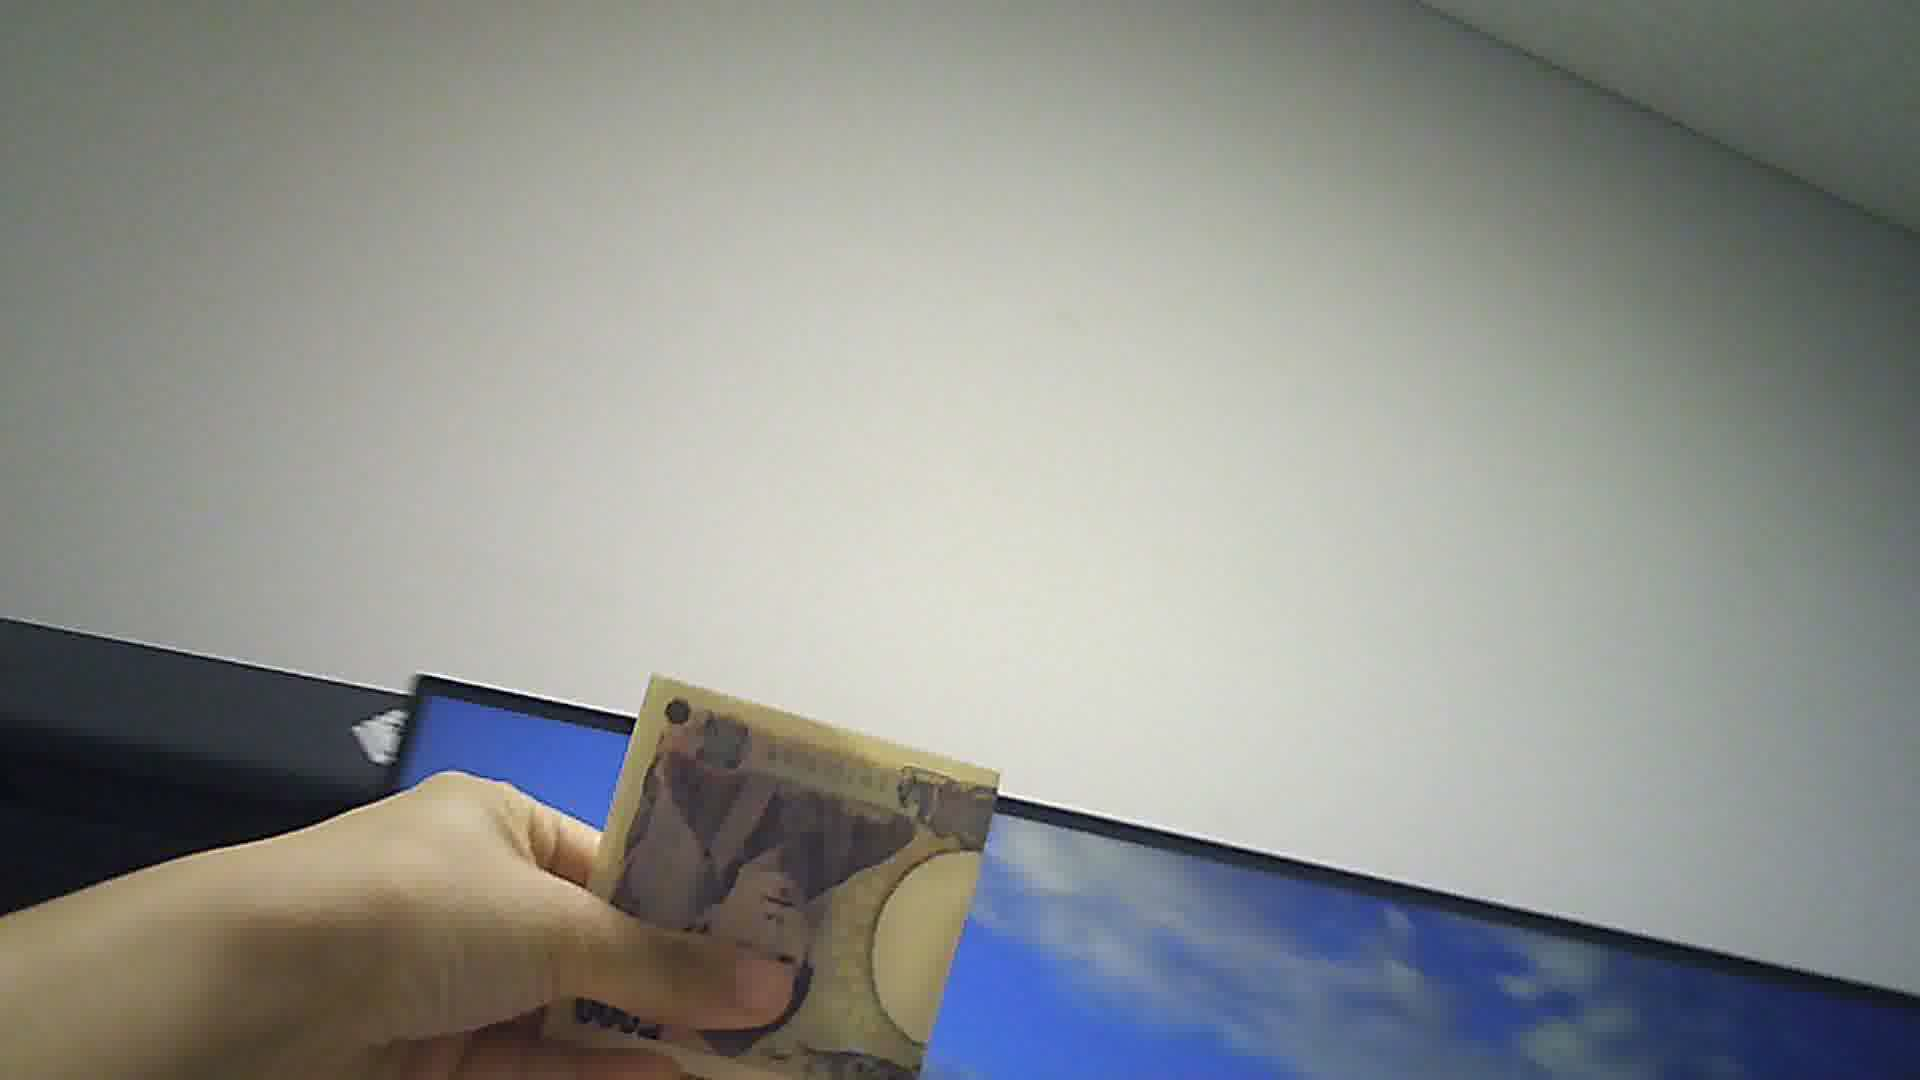5,000 Yen: (521, 667, 1019, 1073)
